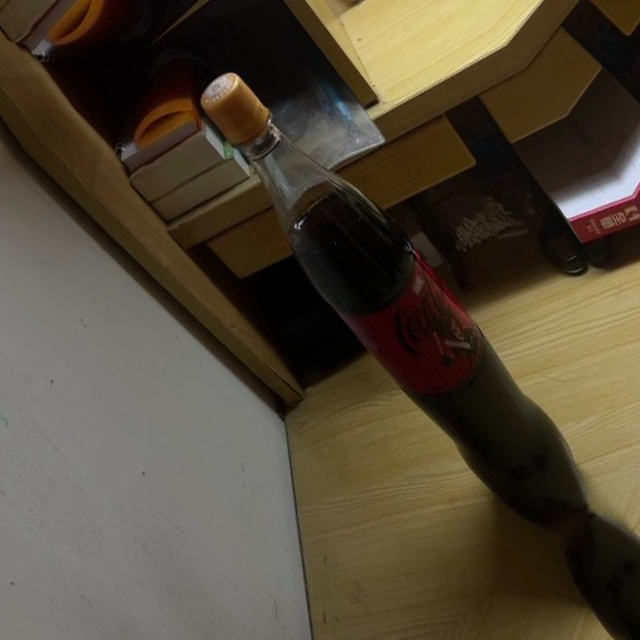Coca-Cola: (175, 54, 615, 553)
